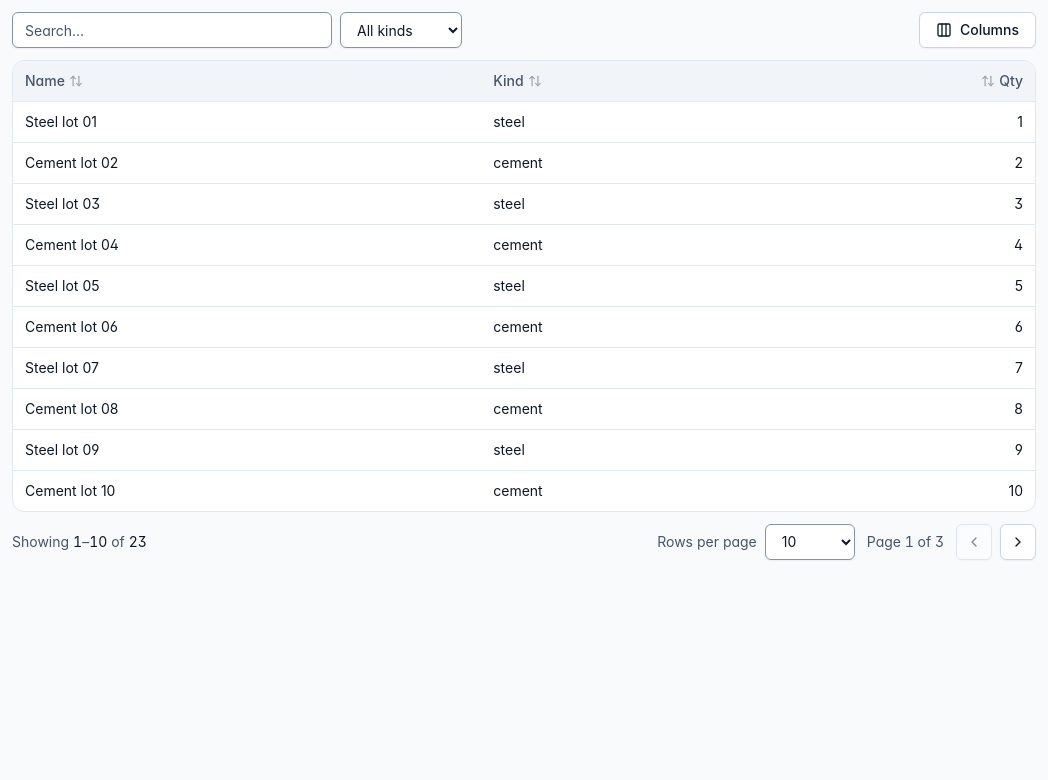
Test: DataTable › shows a no-matches state with a working clear button
Step 1. Type "granite" into the search field → (172, 30), box [12, 12, 332, 48]
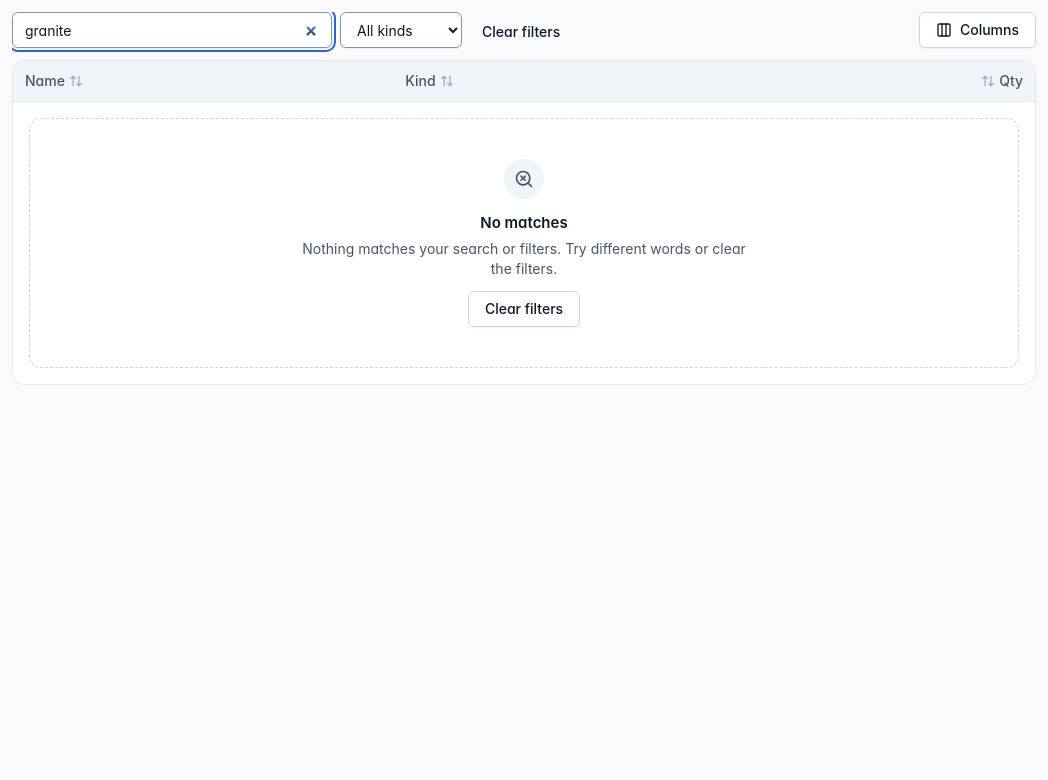
expect the heading "No matches" is shown: met, box [480, 212, 568, 232]
expect the text "Showing" is gone: met
Step 2. Click the button "Clear filters" below "No matches" → (524, 308), box [468, 290, 580, 326]
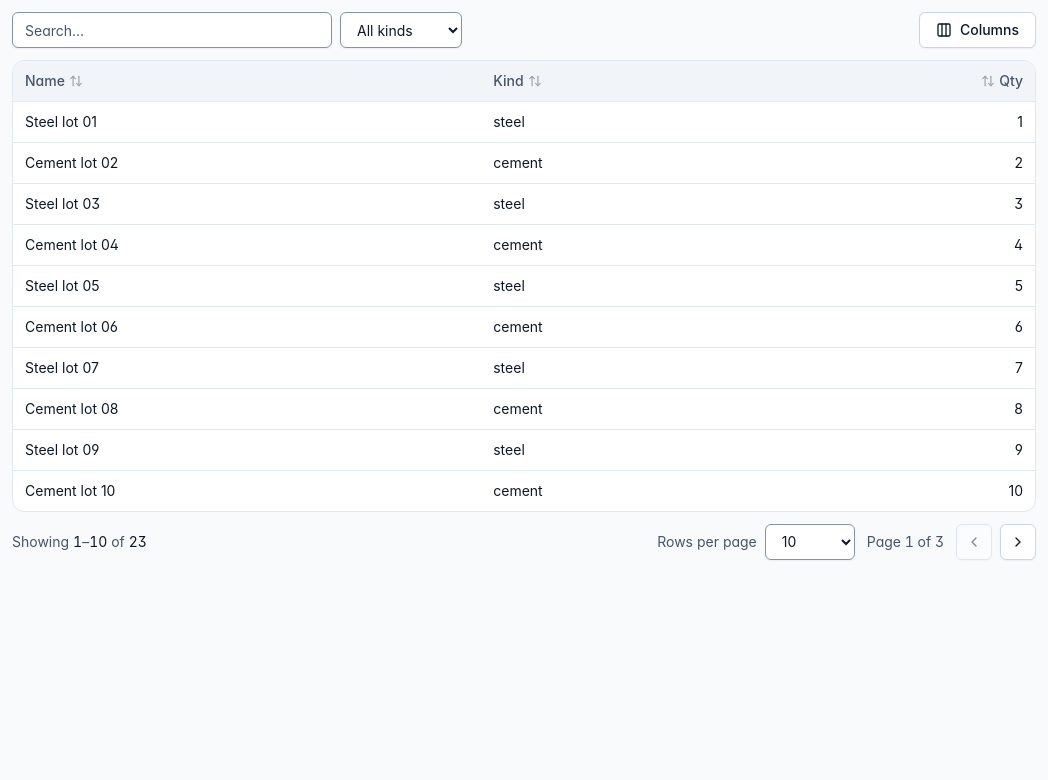
expect the search field is empty: met, box [12, 12, 332, 48]
